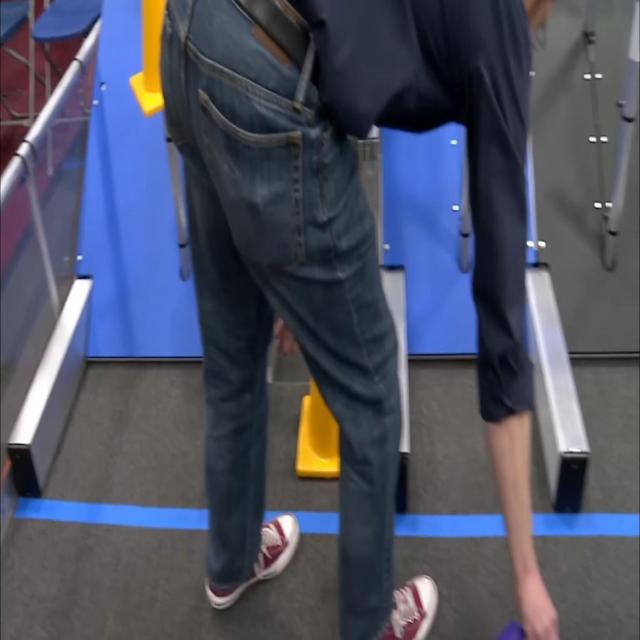frc_cone: (294, 370, 340, 480), (125, 0, 163, 122)
frc_cube: (487, 619, 526, 640)
